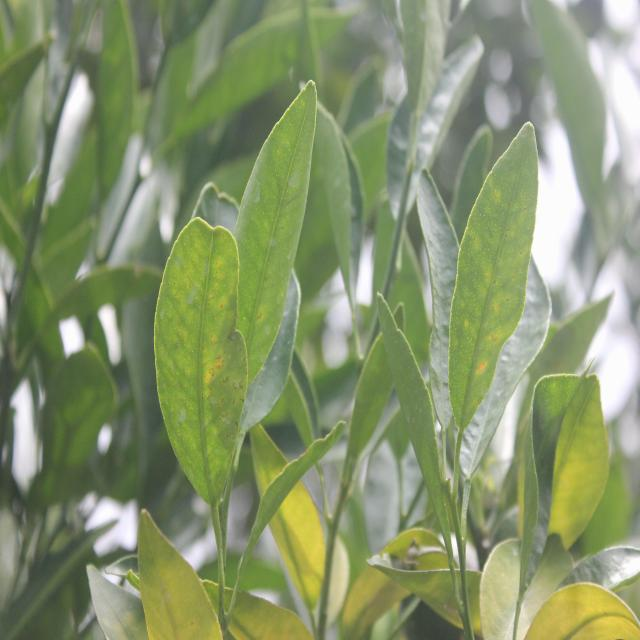canker: (162, 240, 250, 491), (452, 149, 530, 408), (248, 249, 275, 357)
